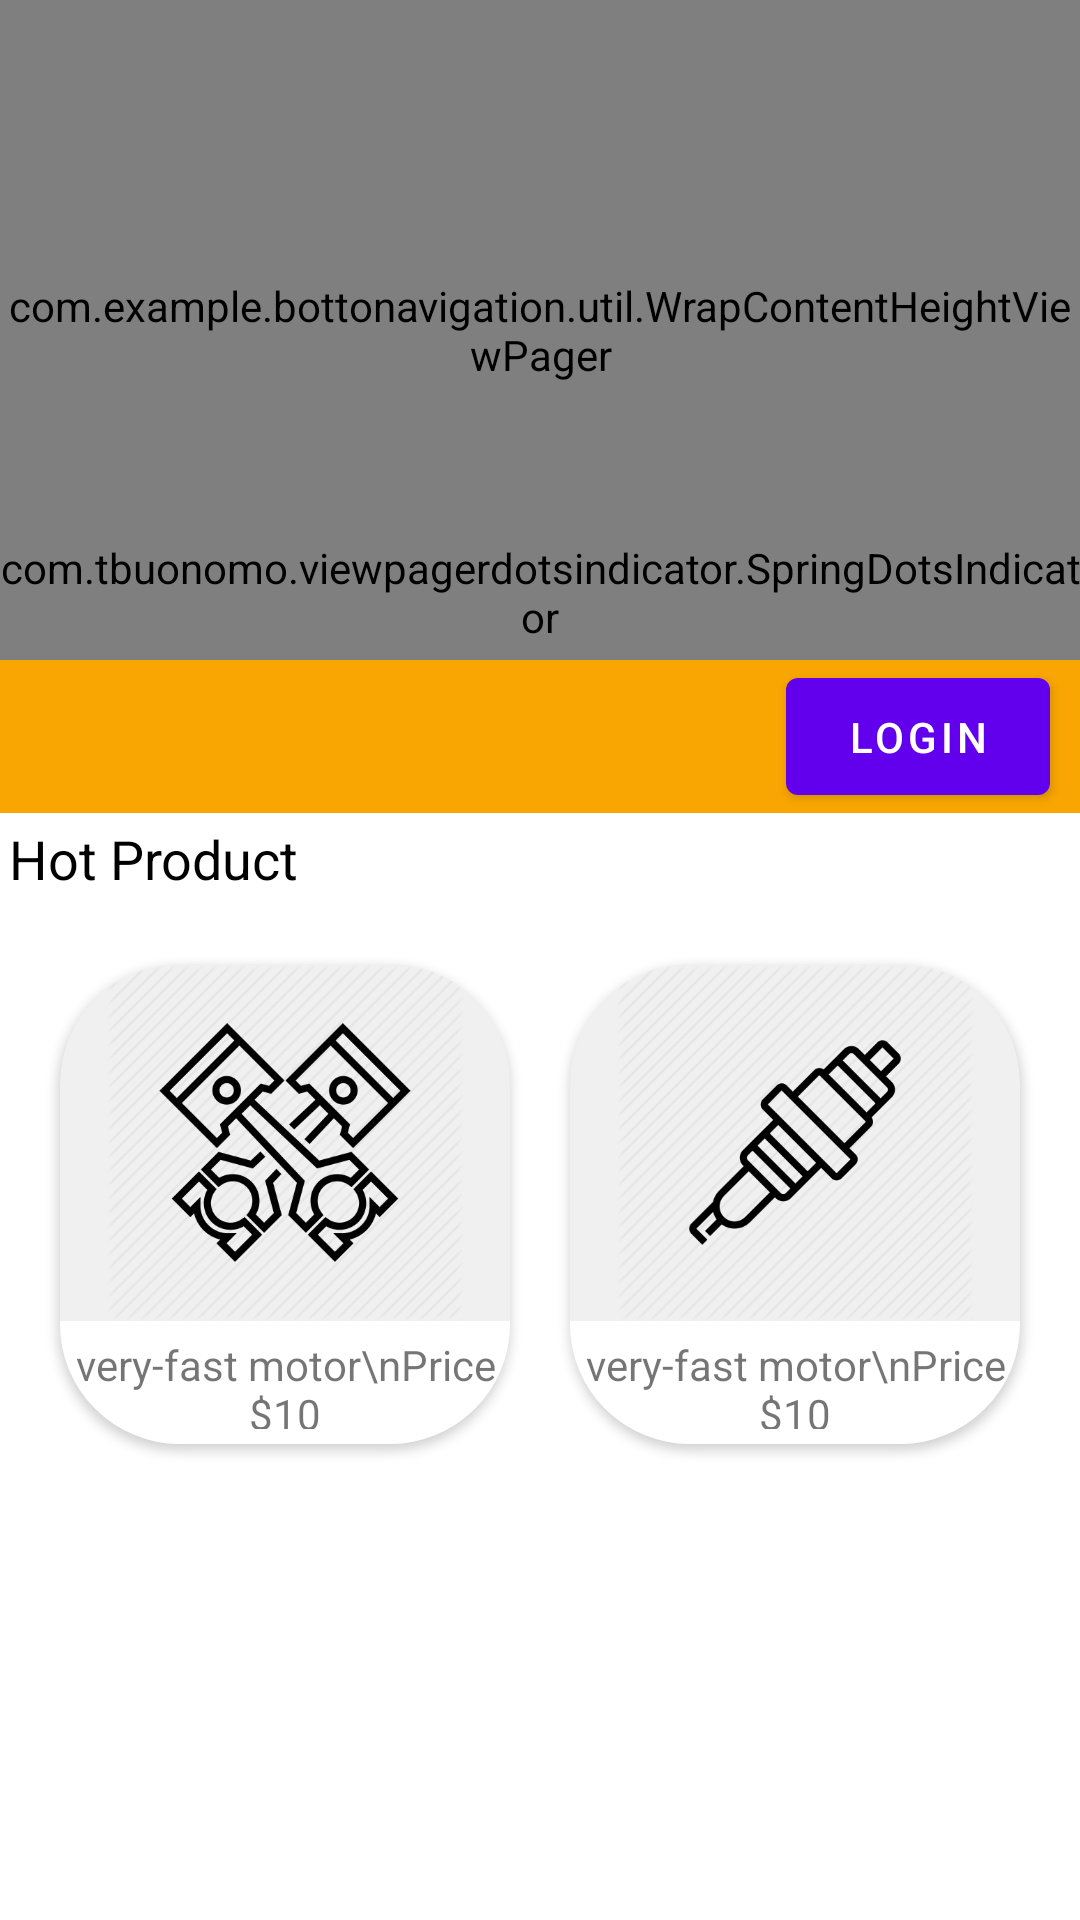

Screen size 1080*1920. Icon name, then its box in pixels as {"left": x1, "top": y1, "right": x2, "bottom": y2}:
part: {"left": 159, "top": 1023, "right": 411, "bottom": 1262}
